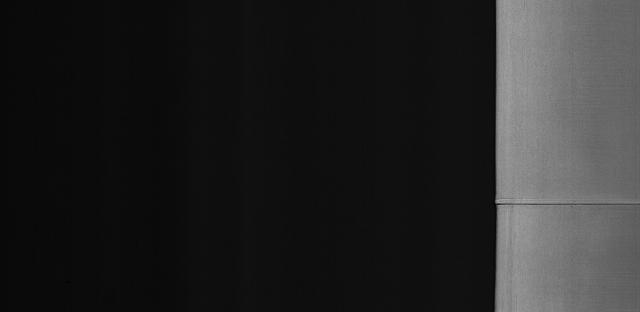welding_line: (495, 195, 640, 213)
